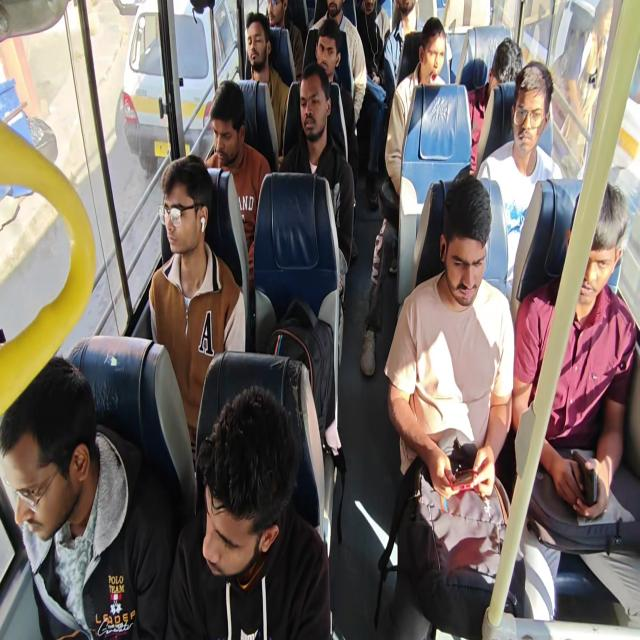person: (174, 365, 309, 640), (0, 315, 103, 595), (572, 201, 629, 391), (154, 173, 217, 330), (444, 189, 502, 328), (288, 73, 340, 188), (517, 89, 562, 192), (408, 26, 463, 103), (203, 94, 243, 182), (486, 47, 532, 111), (243, 15, 276, 77), (396, 0, 439, 46), (310, 30, 342, 78), (321, 0, 345, 33), (264, 0, 286, 27), (362, 0, 379, 18)
